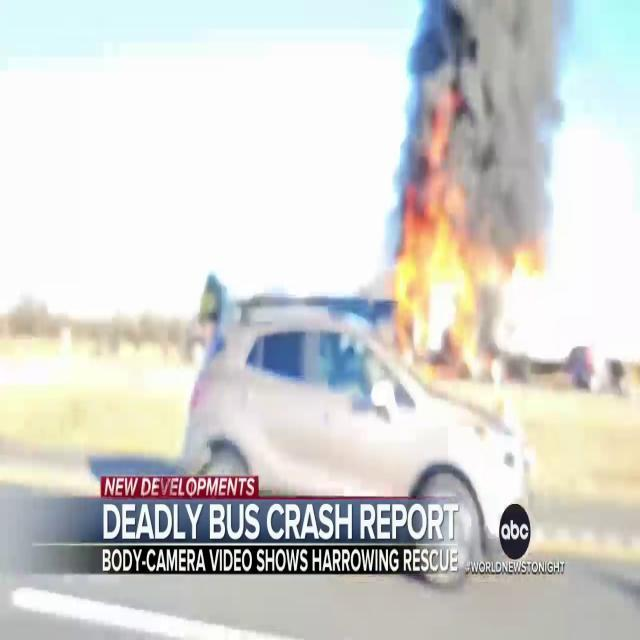Fire: (392, 208, 481, 372)
Smoke: (382, 0, 584, 250)
